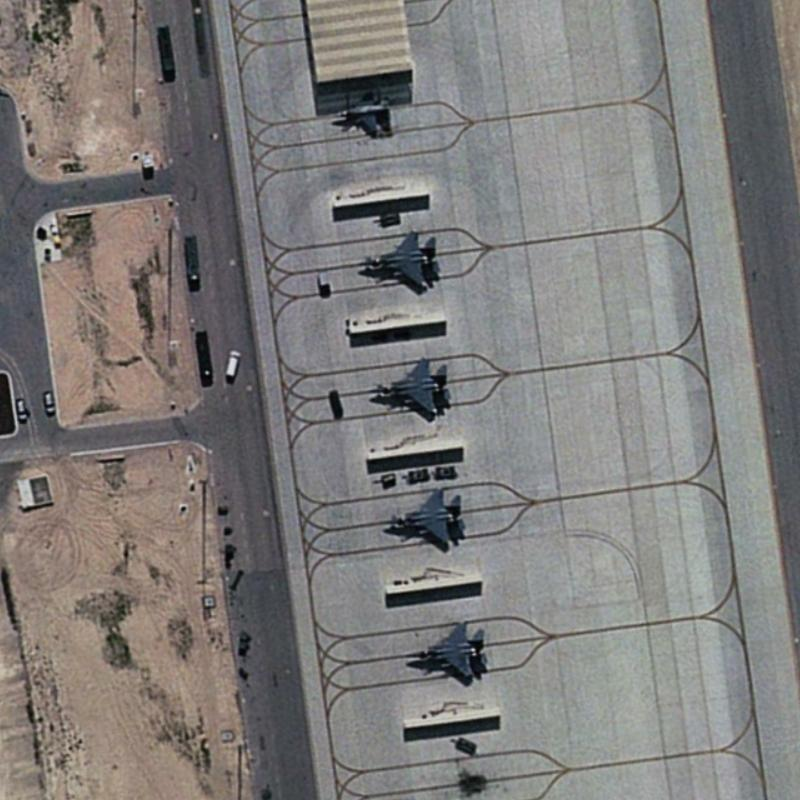A13: (369, 477, 475, 559), (354, 347, 454, 427), (399, 609, 494, 688), (342, 225, 450, 291)
A5: (322, 79, 403, 139)
